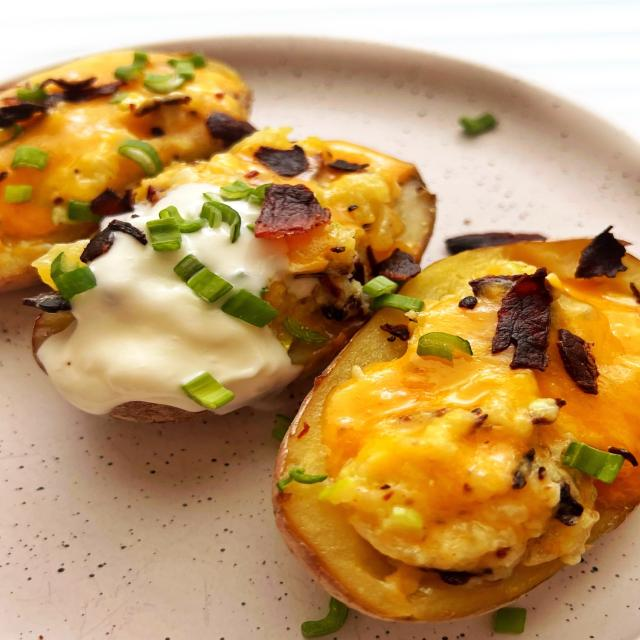papa: (8, 40, 634, 631)
